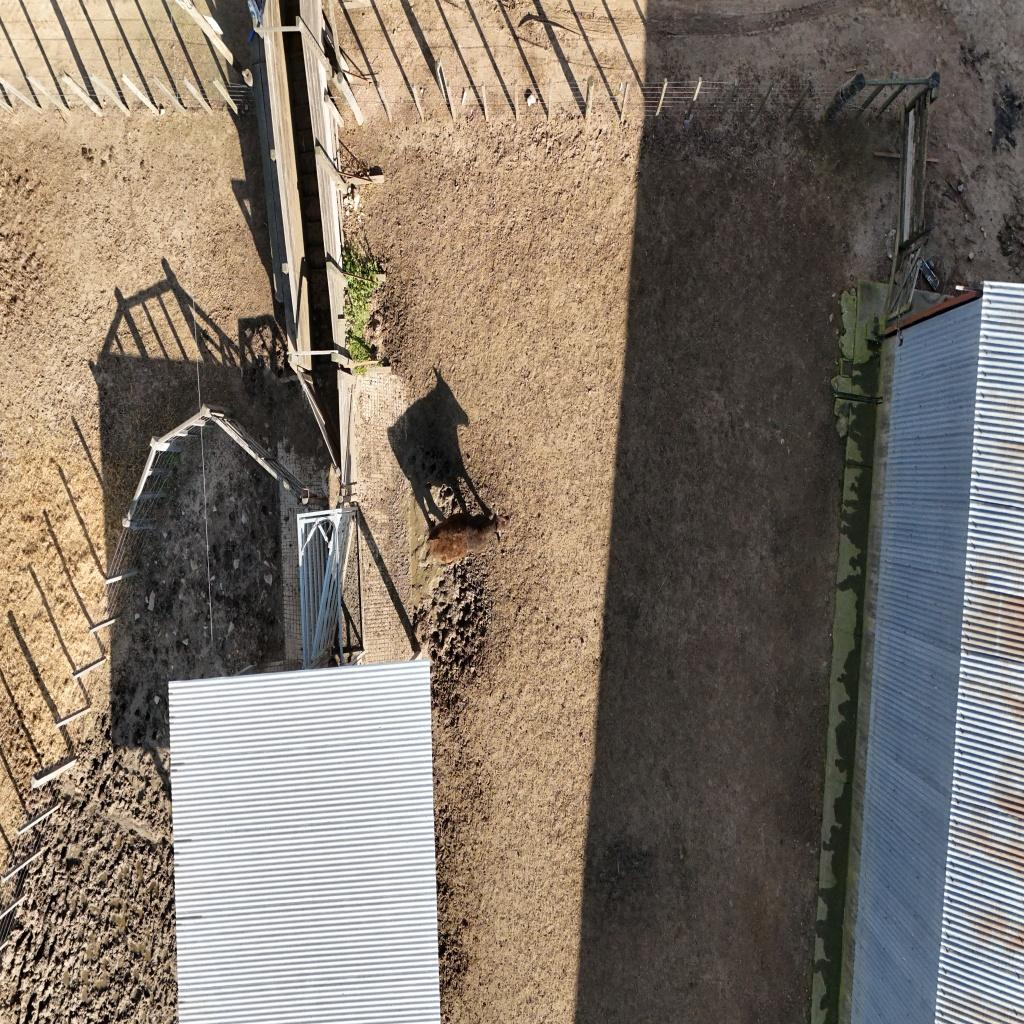cow: (414, 507, 519, 571)
